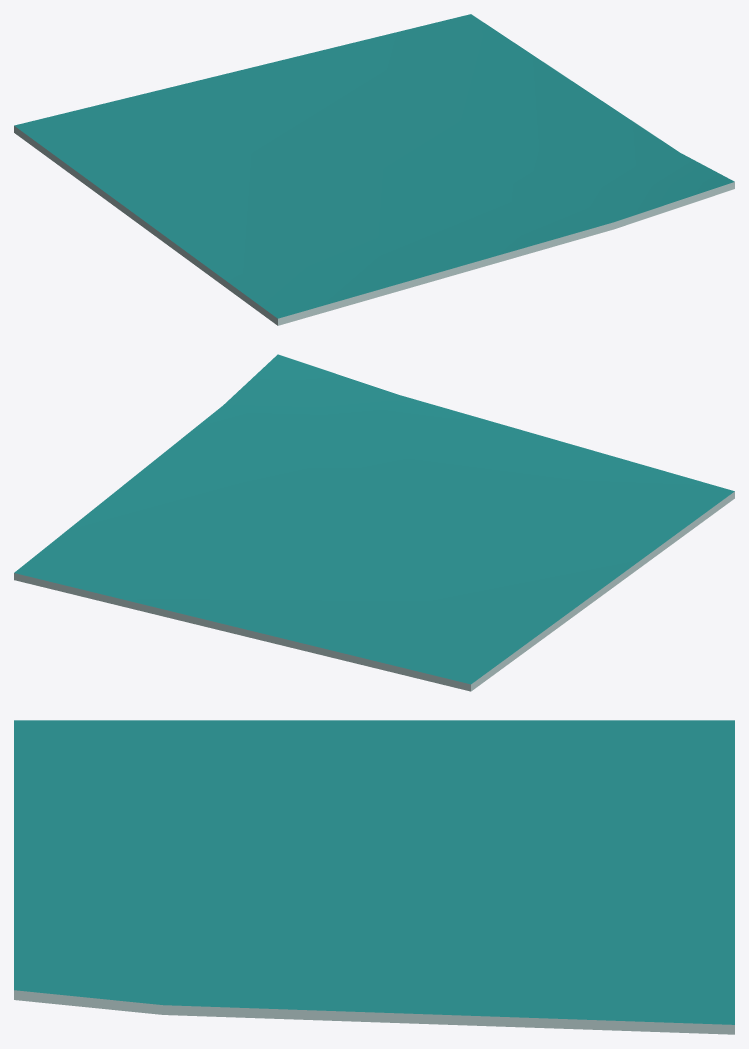
File: SM_Cardboard_02.FBX
3 renders of one model, top to bottom at view 1: azimuth 30°, elevation 25°; view 2: azimuth 150°, elevation 25°; view 3: azimuth 270°, elevation 25°, orthographic. The views are drawn at different scales.
Visible parts, largest first — view 1: SM_Cardboard_02; view 2: SM_Cardboard_02; view 3: SM_Cardboard_02.
Part boxes in pixels (x1,y1,x2,y2): SM_Cardboard_02: (14, 14, 734, 325); SM_Cardboard_02: (14, 354, 734, 691); SM_Cardboard_02: (14, 720, 734, 1034).
Size of what is drawn, in the model's own units: 308 by 21.02 by 308.
